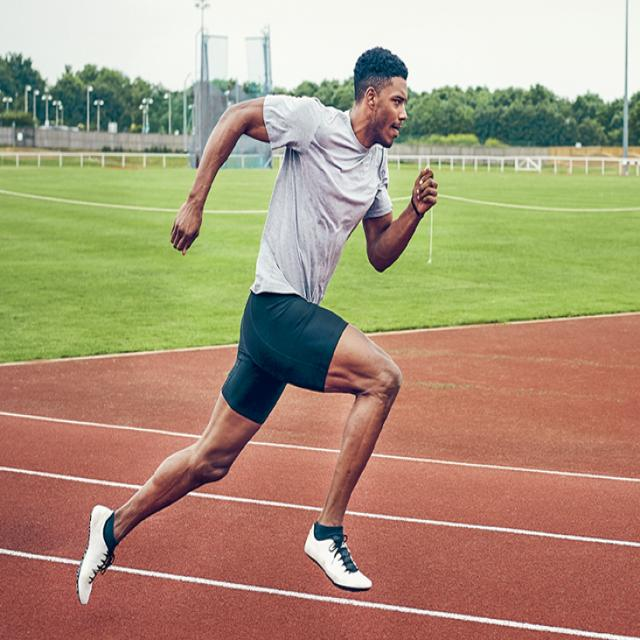running: (71, 42, 438, 612)
